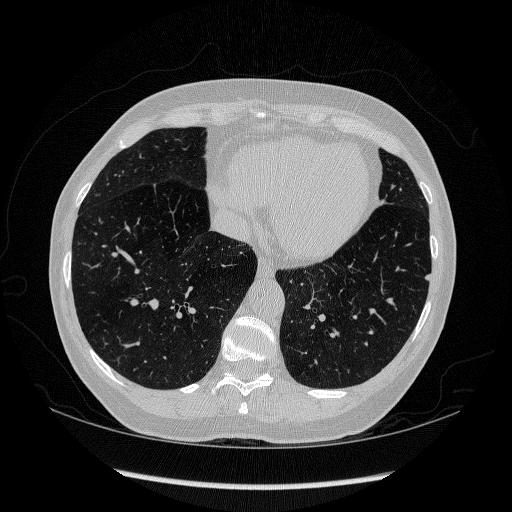nodule: (422, 272, 433, 283)
